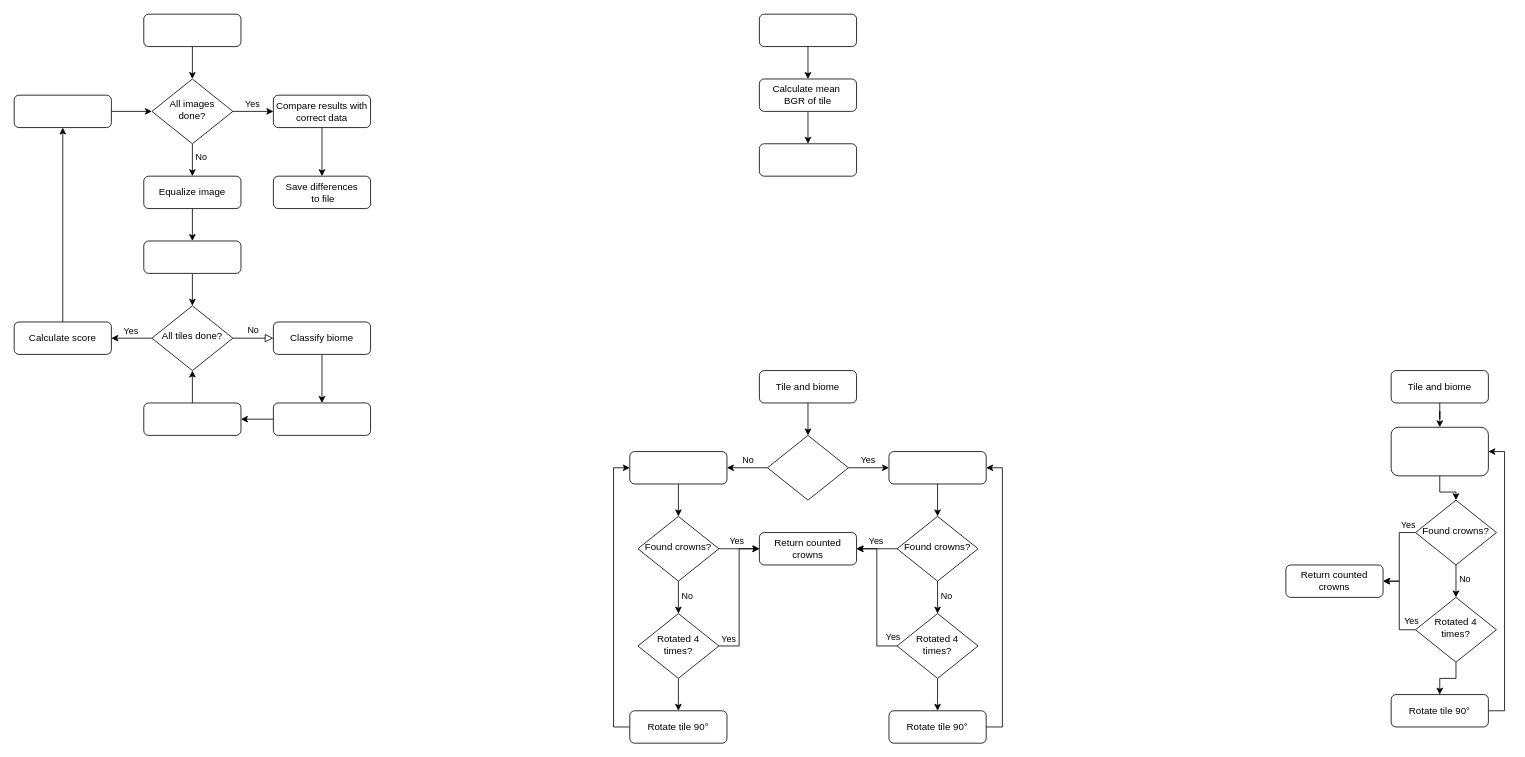
Image size: 1525x757. Some labels were removed from this diagram. Each missing label, with the box of its shape:
Calculate KNN with training data: (759, 143, 857, 176)
Calculate mean edges of tile: (759, 13, 857, 47)
Count crowns: (273, 402, 371, 435)
Image index++: (13, 94, 111, 128)
Is biome water?: (767, 435, 848, 500)
Load all images: (143, 13, 241, 47)
Split image into tiles: (143, 240, 241, 273)
Template match on blue channel: (629, 451, 727, 484)
Template match on red channel: (888, 451, 986, 484)
Template match on red/blue channel depending in biome: (1390, 426, 1488, 476)
tile index++: (143, 402, 241, 435)
